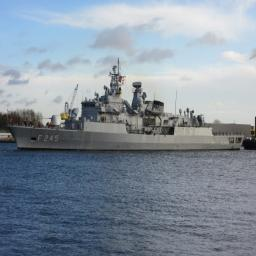Fragata: (6, 56, 247, 156)
